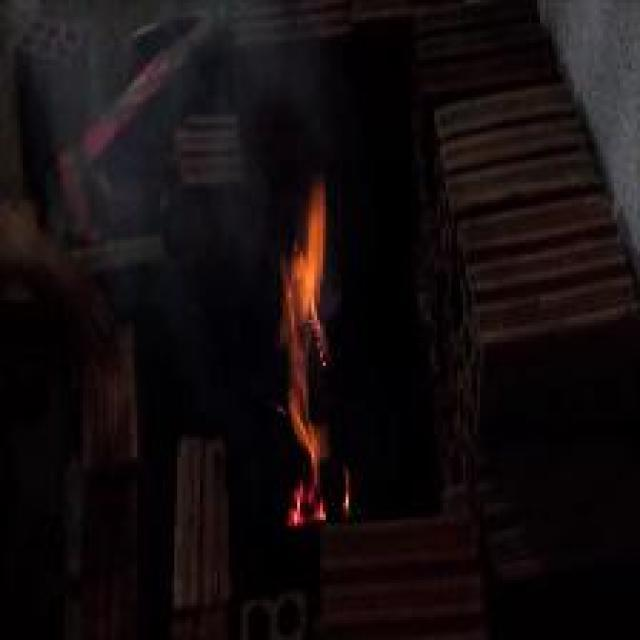Fire: (284, 187, 327, 522)
